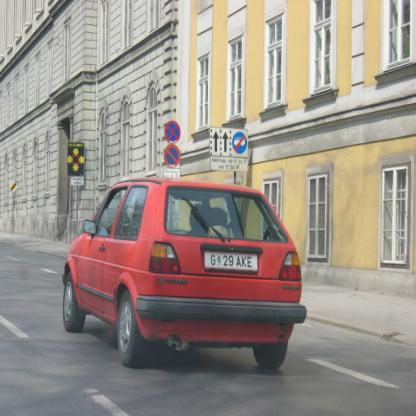car: (62, 177, 303, 372)
